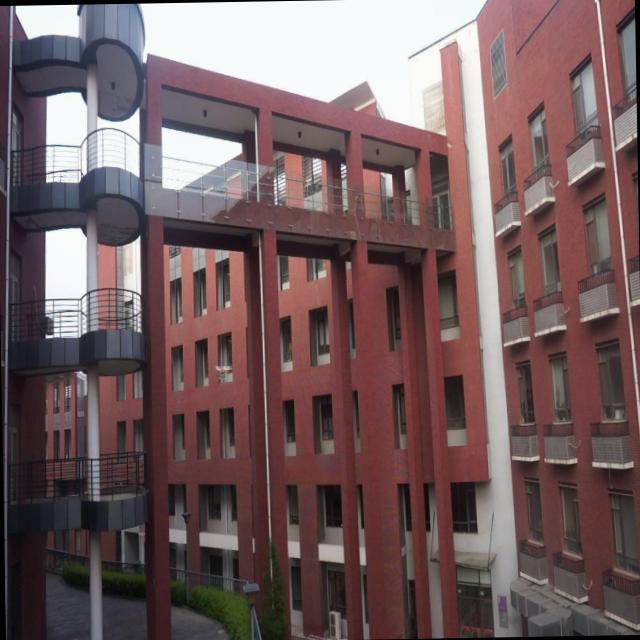drone: (212, 358, 234, 382)
